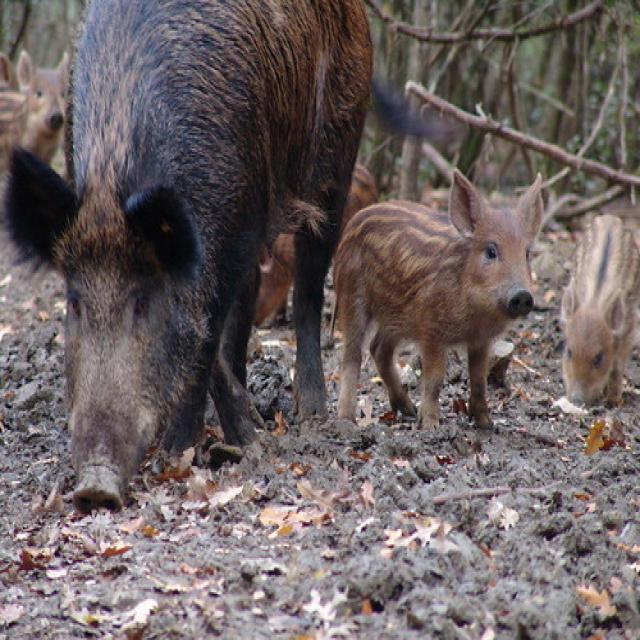boar: (2, 0, 396, 550), (316, 147, 552, 446), (556, 184, 640, 420)
